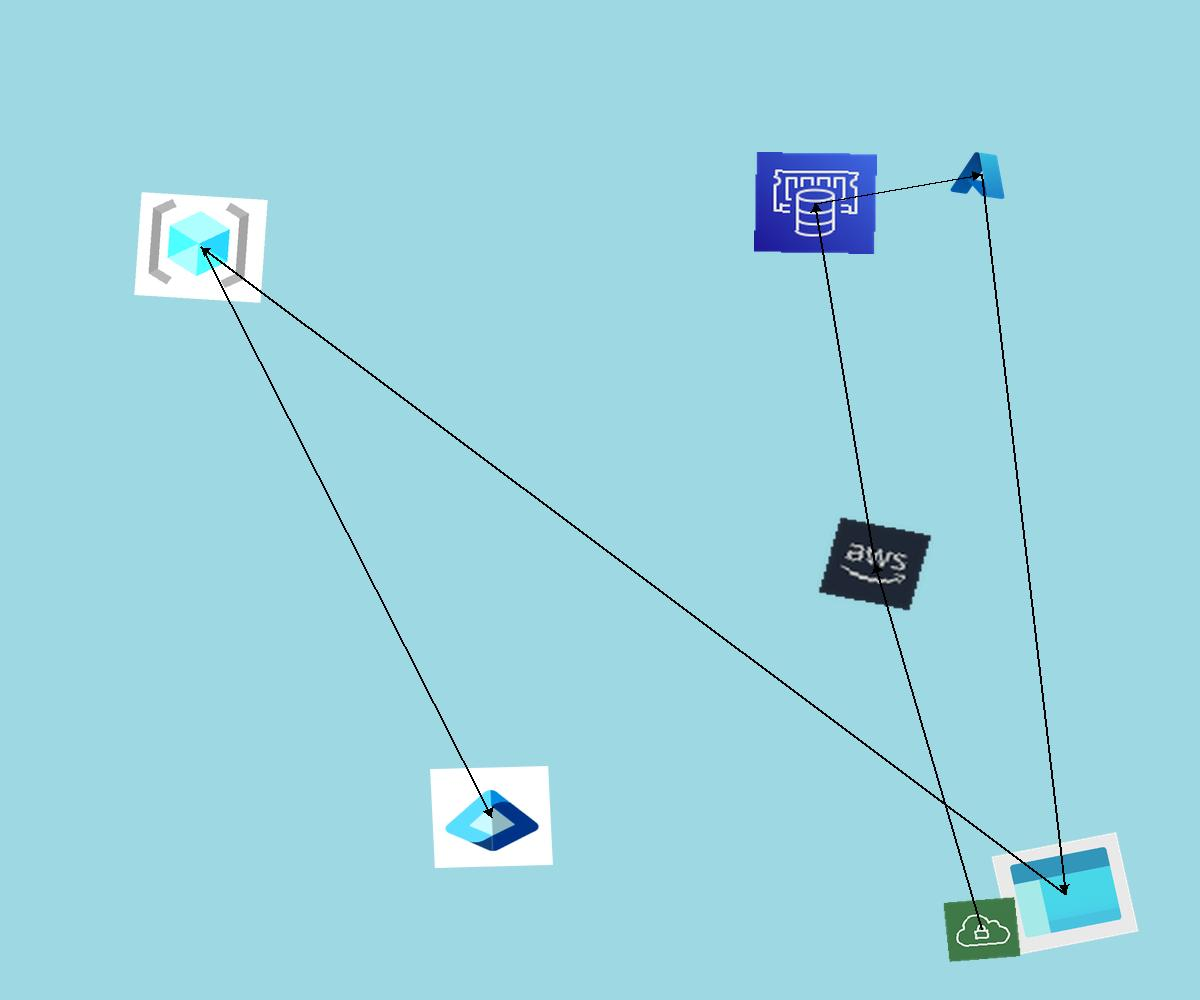AWS-Cloud-logo: (817, 516, 933, 612)
AWS-ElastiCache: (754, 152, 877, 254)
AWS-Private_vpc: (943, 897, 1021, 962)
Azure_management-portal: (991, 832, 1139, 956)
Azure_microsoft_entra: (430, 766, 553, 868)
Azure_resource_group: (134, 192, 268, 303)
Azure_services: (947, 146, 1016, 203)
